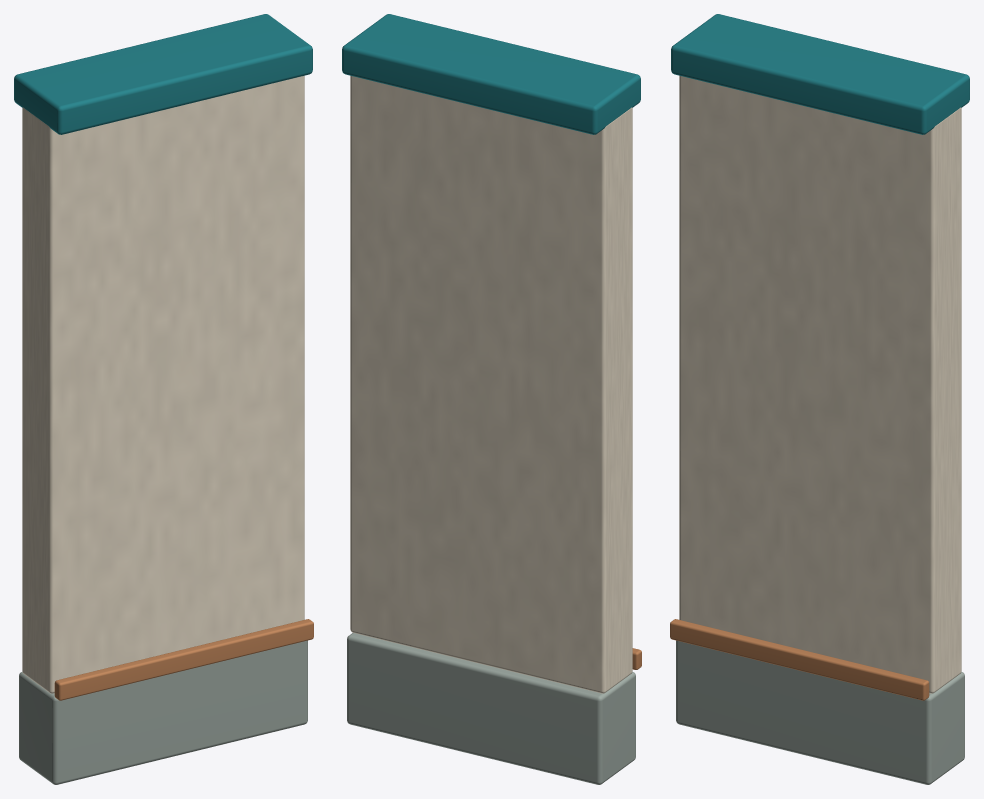
File: wall.glb
3 renders of one model, left to right at view 1: azimuth 30°, elevation 25°; view 2: azimuth 150°, elevation 25°; view 3: azimuth 330°, elevation 25°, orthographic.
Visible parts, largest first — view 1: Limestone wall, Stone base, Teal cornice, Oak base trim; view 2: Limestone wall, Stone base, Teal cornice; view 3: Limestone wall, Stone base, Teal cornice, Oak base trim.
Part boxes in pixels (<box>): Limestone wall: <box>22,75,304,693</box>; Stone base: <box>19,640,307,784</box>; Teal cornice: <box>14,14,312,134</box>; Oak base trim: <box>54,619,313,700</box>; Limestone wall: <box>350,75,632,693</box>; Stone base: <box>347,633,635,784</box>; Teal cornice: <box>342,14,640,134</box>; Limestone wall: <box>679,75,961,693</box>; Stone base: <box>676,640,964,784</box>; Teal cornice: <box>671,14,969,134</box>; Oak base trim: <box>670,619,929,700</box>.
Bounding box in the file's own units: 1.2 × 3.06 × 0.3825.
Materials: 4 (1 with a texture image).
